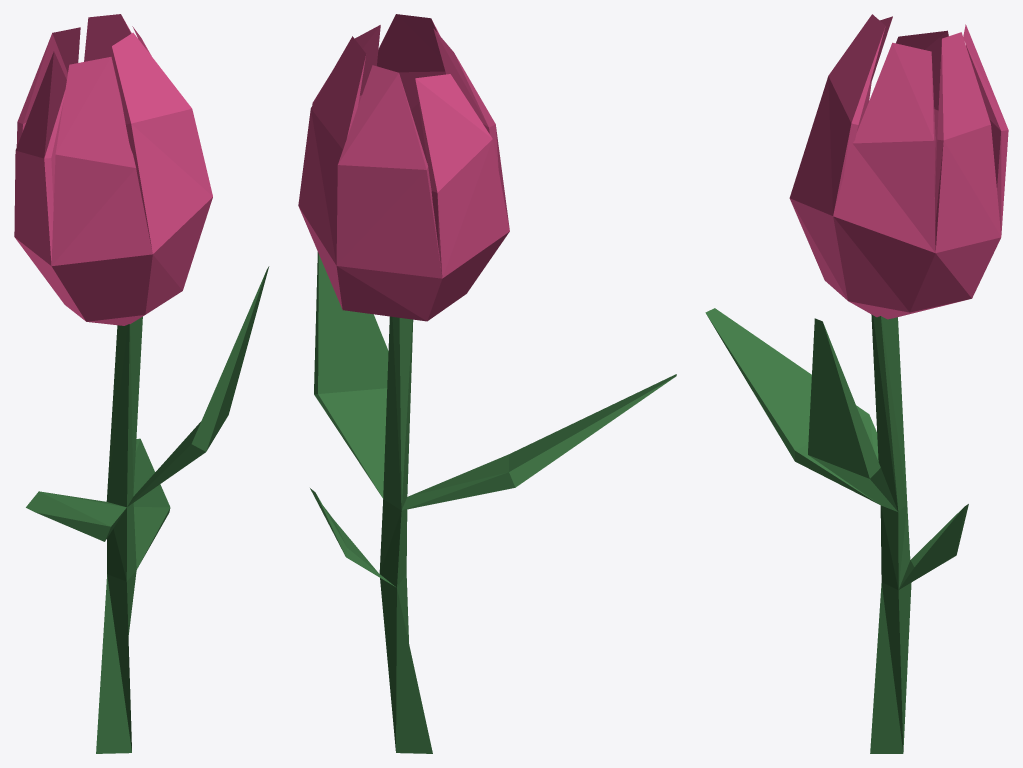
File: Tulip_1_Yellow Asia.fbx
3 renders of one model, left to right at view 1: azimuth 30°, elevation 25°; view 2: azimuth 150°, elevation 25°; view 3: azimuth 270°, elevation 25°, orthographic. The views are drawn at different scales.
Parts seen in each view (by area): view 1: Tulip_1_Yellow; view 2: Tulip_1_Yellow; view 3: Tulip_1_Yellow.
Boxes of the visible parts, <box> form: Tulip_1_Yellow: <box>14,14,269,753</box>; Tulip_1_Yellow: <box>298,14,676,753</box>; Tulip_1_Yellow: <box>705,14,1008,753</box>.
Size of the model in its own units: 0.1597 by 0.3669 by 0.1377.
